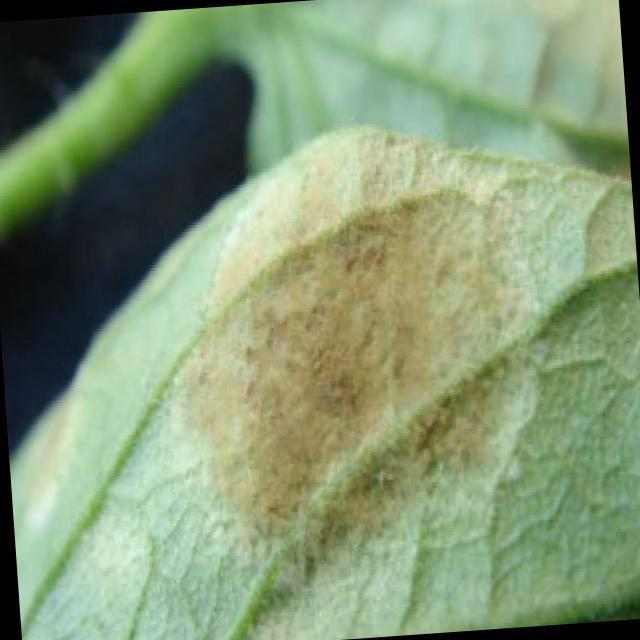Mosaic Virus: (166, 120, 569, 588)
